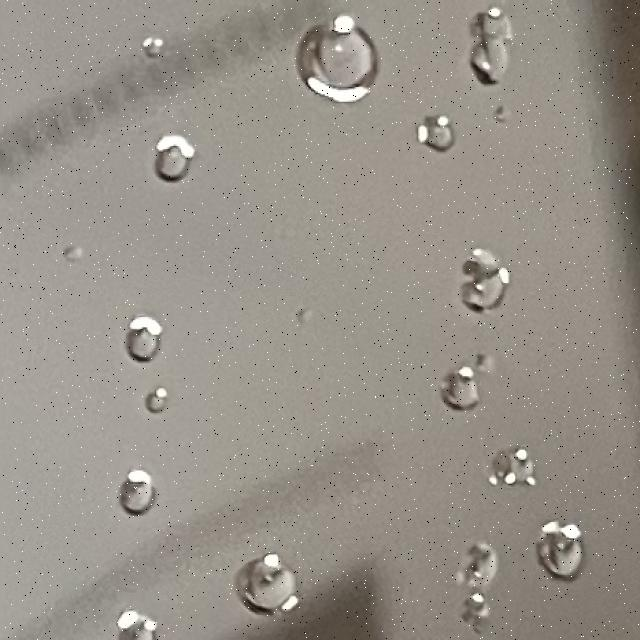raindrop: (301, 5, 388, 106), (524, 515, 604, 598), (474, 437, 566, 507), (141, 115, 214, 192), (449, 239, 518, 318), (210, 565, 292, 630), (433, 528, 509, 591), (463, 1, 529, 59), (110, 464, 161, 532), (445, 588, 510, 640), (416, 97, 472, 157), (440, 364, 491, 420), (464, 39, 517, 92), (111, 596, 174, 640), (120, 307, 163, 342), (474, 351, 515, 383), (128, 24, 165, 57), (148, 387, 185, 415), (484, 100, 516, 132), (60, 233, 94, 262)
